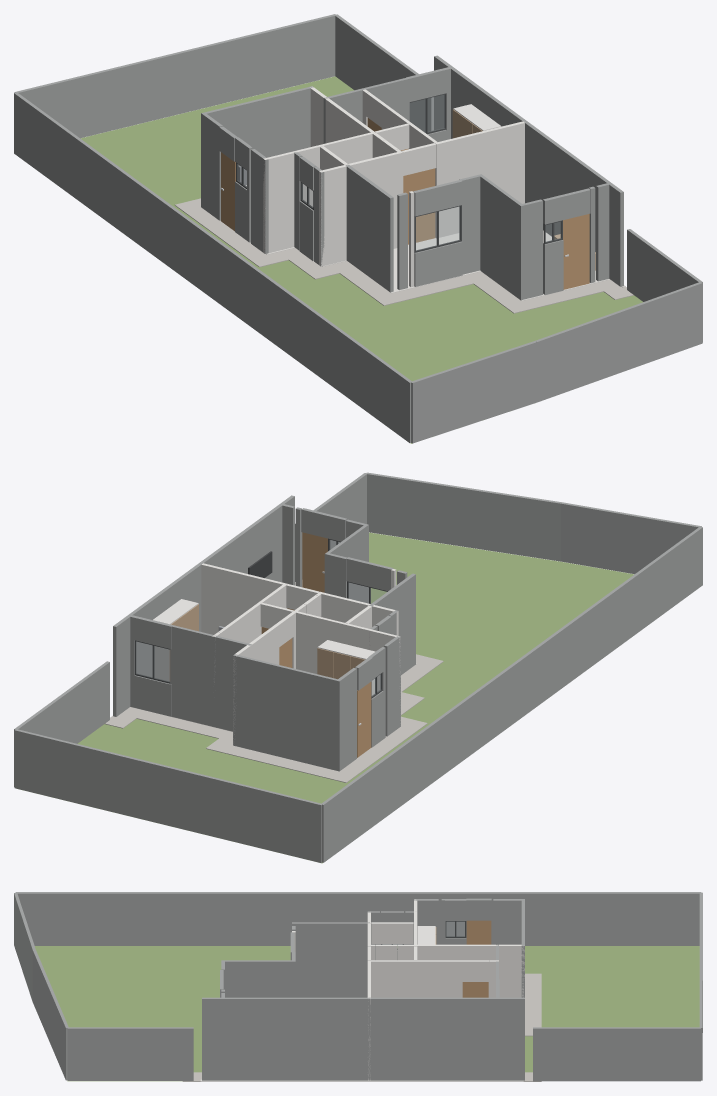
File: casa.glb
3 renders of one model, top to bottom at view 1: azimuth 30°, elevation 25°; view 2: azimuth 150°, elevation 25°; view 3: azimuth 270°, elevation 25°, orthographic. The views are drawn at different scales.
Parts seen in each view (by area): view 1: fachada, grama, parede, concreto, vidro, door6_swing__porta, esquadria, door2_swing__porta, piso, door3_swing__porta; view 2: fachada, grama, parede, concreto, vidro, armario, madeira, door6_swing__porta, door3_swing__porta, esquadria; view 3: fachada, grama, parede, concreto, piso, door3_swing__porta, door4_swing__porta, armario.
Boxes of the visible parts, x1,y1,x2,y2 form: fachada: (14, 14, 702, 443); grama: (80, 76, 642, 443); parede: (263, 86, 524, 287); concreto: (175, 198, 633, 313); vidro: (237, 94, 560, 250); door6_swing__porta: (563, 214, 589, 289); esquadria: (236, 93, 562, 252); door2_swing__porta: (403, 168, 435, 244); piso: (220, 220, 625, 300); door3_swing__porta: (221, 152, 235, 231); fachada: (14, 472, 702, 862); grama: (22, 532, 633, 863); parede: (201, 563, 400, 745); concreto: (105, 580, 443, 782); vidro: (136, 540, 386, 695); armario: (153, 599, 377, 695); madeira: (169, 604, 364, 681); door6_swing__porta: (302, 532, 327, 592); door3_swing__porta: (357, 682, 371, 757); esquadria: (135, 538, 387, 698); fachada: (14, 892, 702, 1081); grama: (35, 946, 699, 1081); parede: (292, 899, 524, 1080); concreto: (182, 973, 541, 1081); piso: (200, 1079, 523, 1081); door3_swing__porta: (466, 920, 491, 944); door4_swing__porta: (462, 982, 488, 997); armario: (417, 926, 435, 944).
Size of the model in its own units: 10.07 by 2.83 by 21.46.
